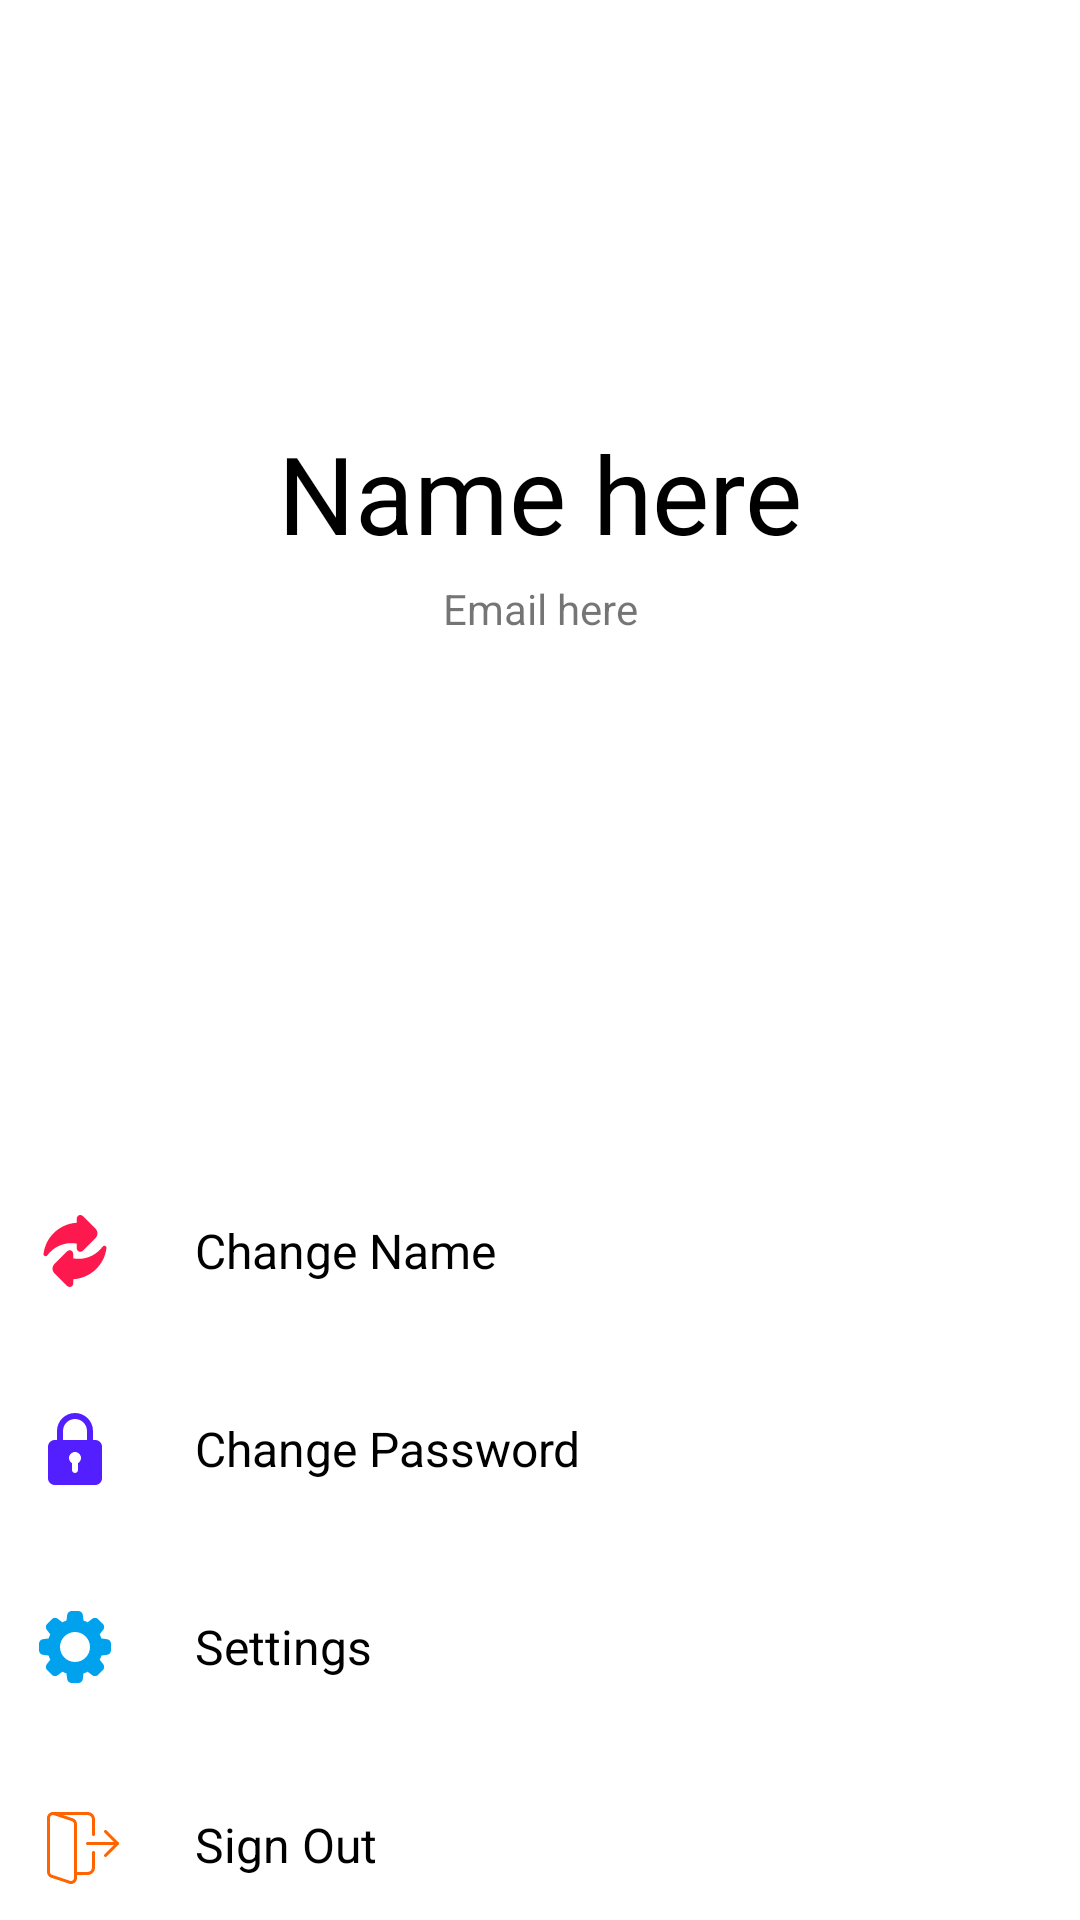

Screen size 1080px×1920px. Icon name, then its box in pixels as (x1, y1, x2, y2):
exchange: (43, 1215, 107, 1287)
lock: (48, 1413, 102, 1485)
log out: (47, 1812, 119, 1884)
